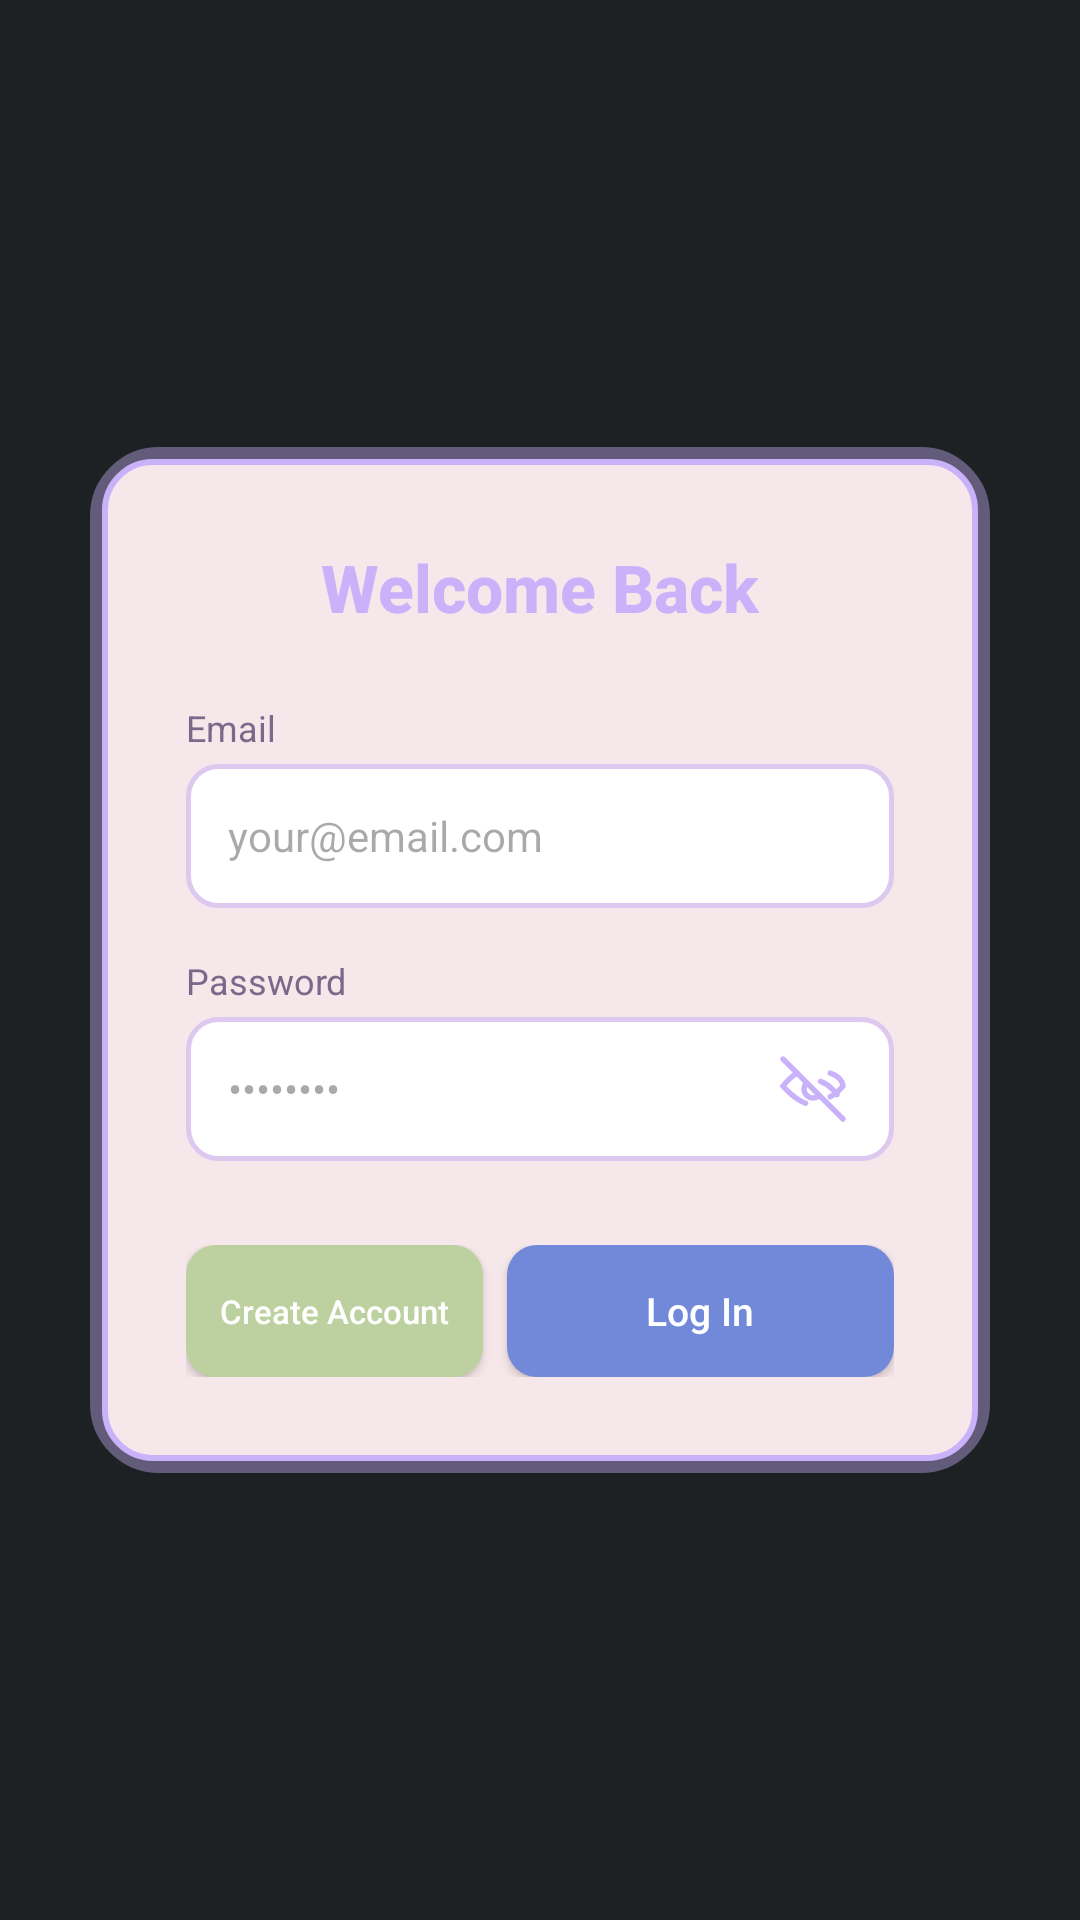

Icons on this 1080×1920 Android screen, each with the point to tap as [x,y]:
Toggle password visibility: [828,1089]
